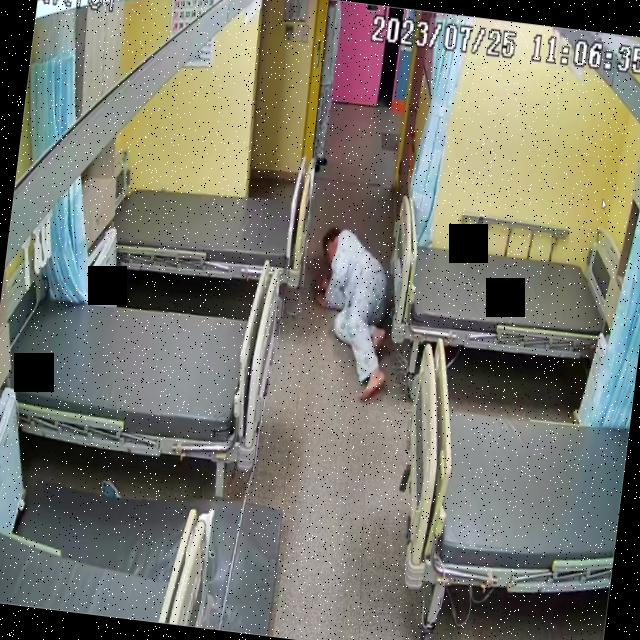bed: (389, 336, 637, 606), (0, 280, 278, 463), (380, 221, 627, 368), (110, 168, 310, 288)
fall: (297, 220, 405, 398)
patient: (297, 216, 406, 398)
